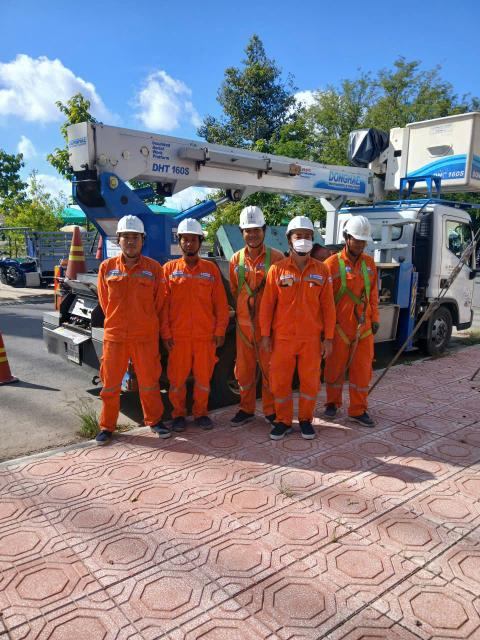helmet: (276, 204, 322, 239), (333, 211, 378, 246), (109, 213, 159, 239), (236, 206, 271, 236), (171, 212, 206, 241)
shoes: (267, 419, 303, 454), (139, 413, 178, 442), (350, 402, 382, 436), (92, 425, 128, 453), (231, 408, 263, 434), (297, 410, 325, 439), (319, 396, 347, 425), (172, 412, 195, 442), (196, 410, 217, 435), (264, 410, 278, 427)
